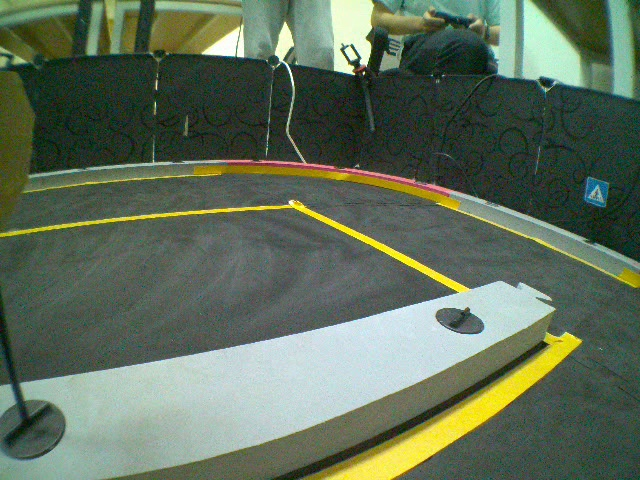crossing: (583, 173, 611, 209)
